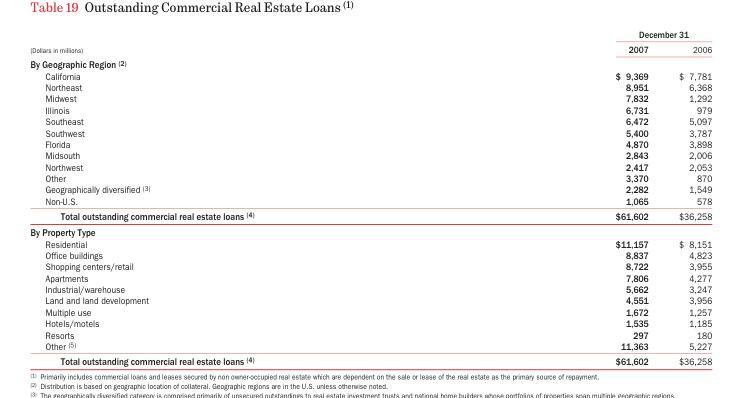table: (29, 28, 711, 366)
table column: (29, 28, 434, 366), (434, 28, 662, 366), (662, 28, 711, 366)
table column header: (29, 28, 711, 56)
table projected row header: (29, 223, 711, 237), (29, 56, 711, 69)
table row: (29, 207, 711, 223), (29, 41, 711, 56), (29, 223, 711, 237), (29, 28, 711, 41), (29, 56, 711, 69), (29, 194, 711, 207), (29, 340, 711, 353), (29, 353, 711, 366), (29, 69, 711, 81), (29, 92, 711, 104), (29, 126, 711, 138), (29, 160, 711, 172), (29, 237, 711, 249), (29, 271, 711, 283), (29, 294, 711, 306), (29, 328, 711, 340), (29, 81, 711, 92), (29, 104, 711, 115), (29, 115, 711, 126), (29, 138, 711, 149), (29, 149, 711, 160), (29, 172, 711, 183), (29, 183, 711, 194), (29, 249, 711, 260), (29, 260, 711, 271), (29, 283, 711, 294), (29, 306, 711, 317), (29, 317, 711, 328)
table spanning cell: (29, 28, 434, 56), (434, 28, 711, 41)
